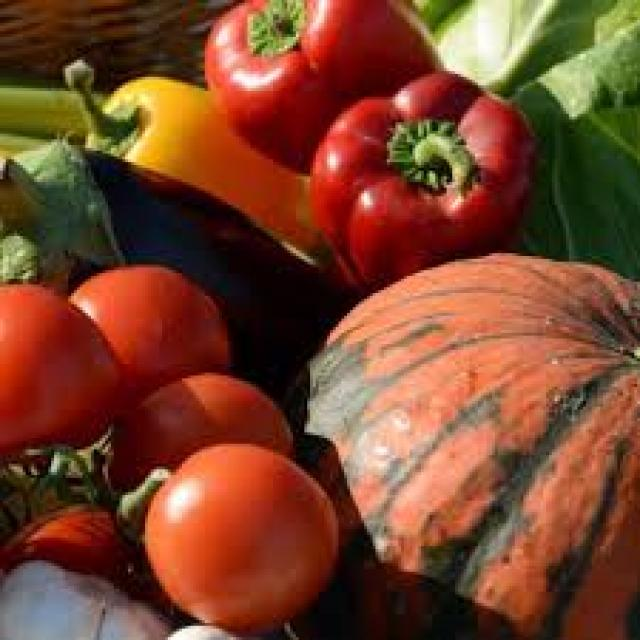organic waste: (270, 248, 637, 634), (59, 54, 316, 262), (302, 66, 534, 284), (199, 0, 450, 171), (140, 435, 338, 626), (501, 23, 637, 273), (85, 150, 262, 316), (59, 262, 228, 421), (0, 461, 179, 609), (114, 367, 296, 492), (407, 0, 637, 94), (0, 281, 122, 458), (0, 137, 128, 293), (0, 73, 102, 233), (0, 555, 179, 637), (3, 424, 122, 520), (142, 617, 268, 637)
